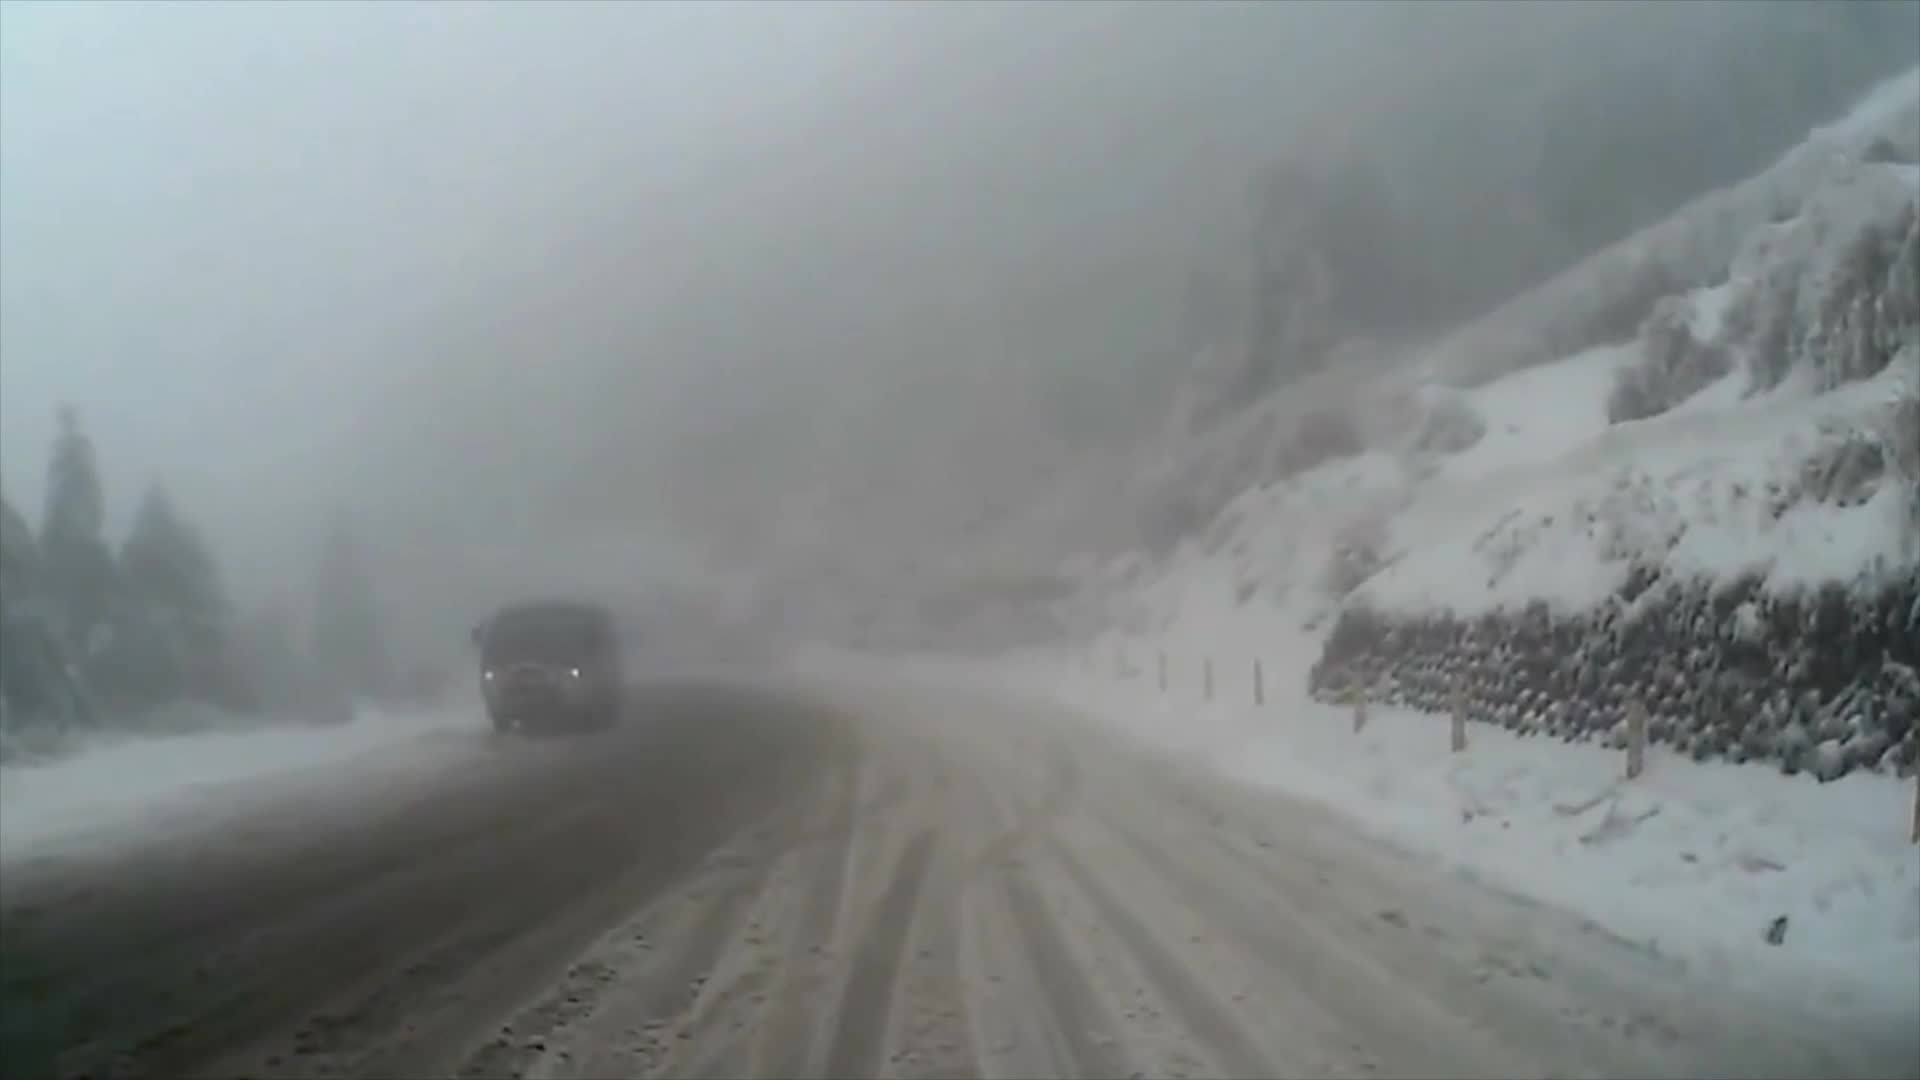vehicle: (467, 603, 618, 736)
